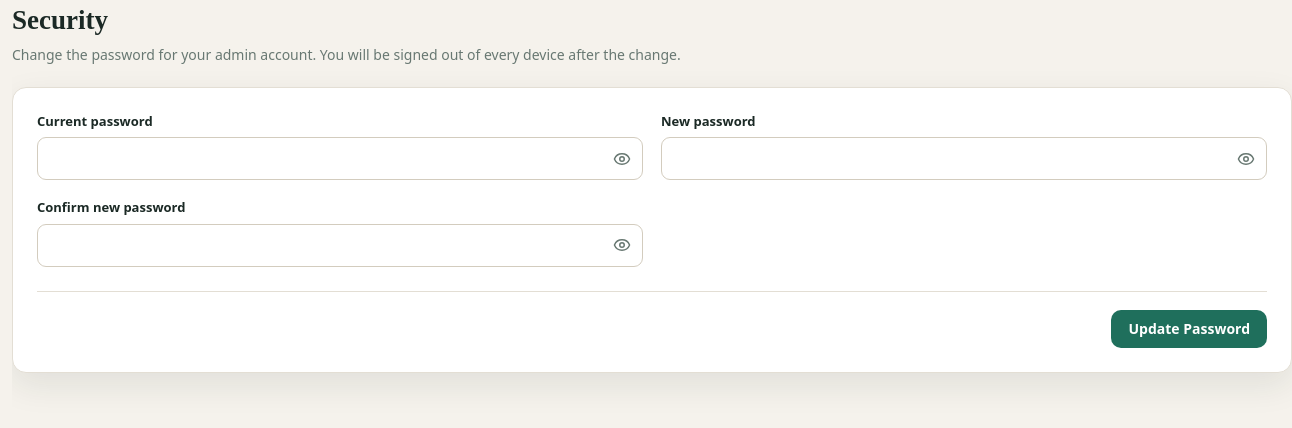
security page › rejects a new password shorter than 12 characters
Expected: the heading "Security" is shown, x1=12 y1=5 x2=108 y2=35
Type "current-password" into the password field labelled "Current password" at [340, 158], box x1=37 y1=137 x2=643 y2=180
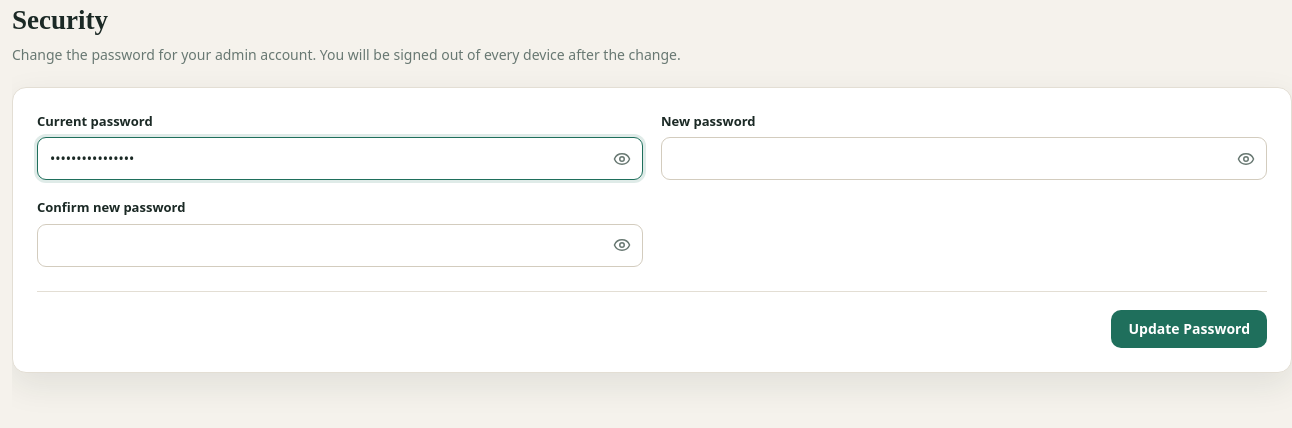
Type "short-passw" into the password field labelled "New password" at [964, 158], box x1=661 y1=137 x2=1267 y2=180
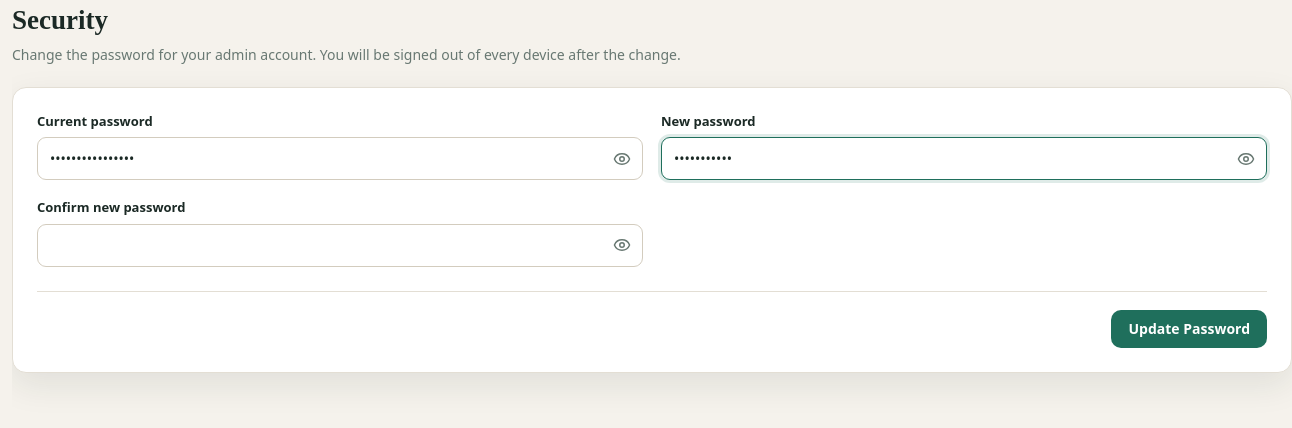
Type "short-passw" into the password field labelled "Confirm new password" at [340, 245], box x1=37 y1=224 x2=643 y2=266
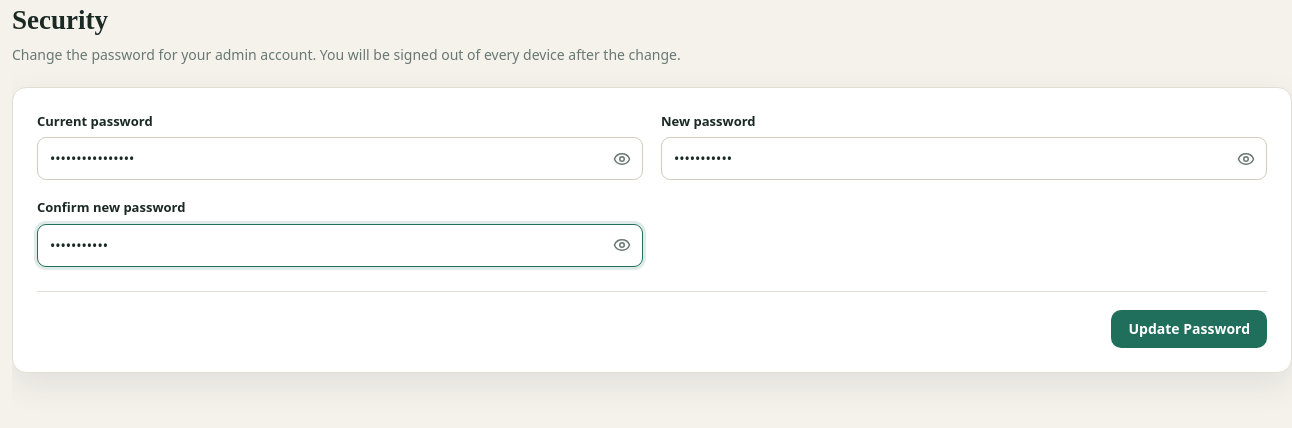
Click the button "Update Password" at [1189, 329], box x1=1112 y1=310 x2=1267 y2=348
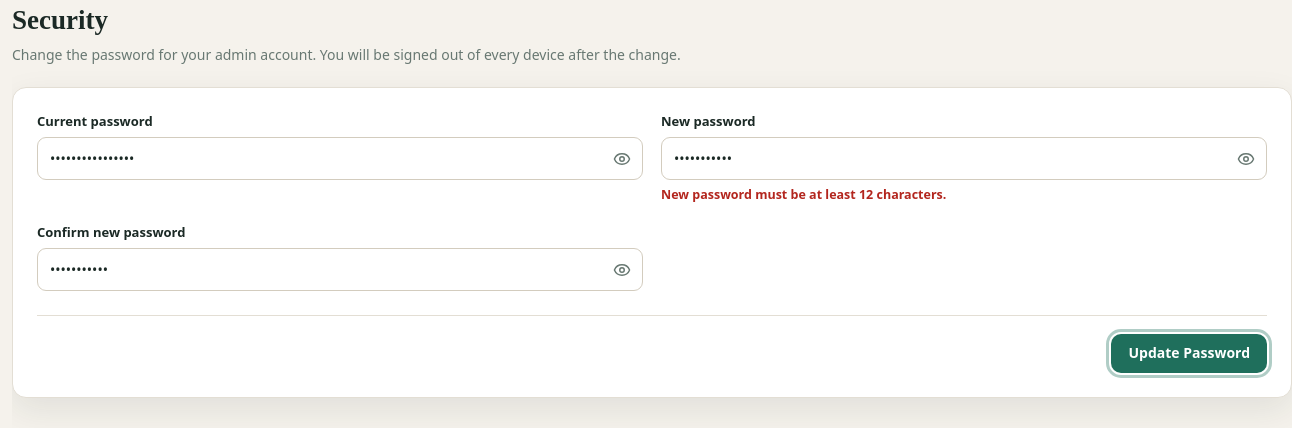
Now the text "New password must be at least 12 characters." is shown, box x1=661 y1=186 x2=946 y2=203
